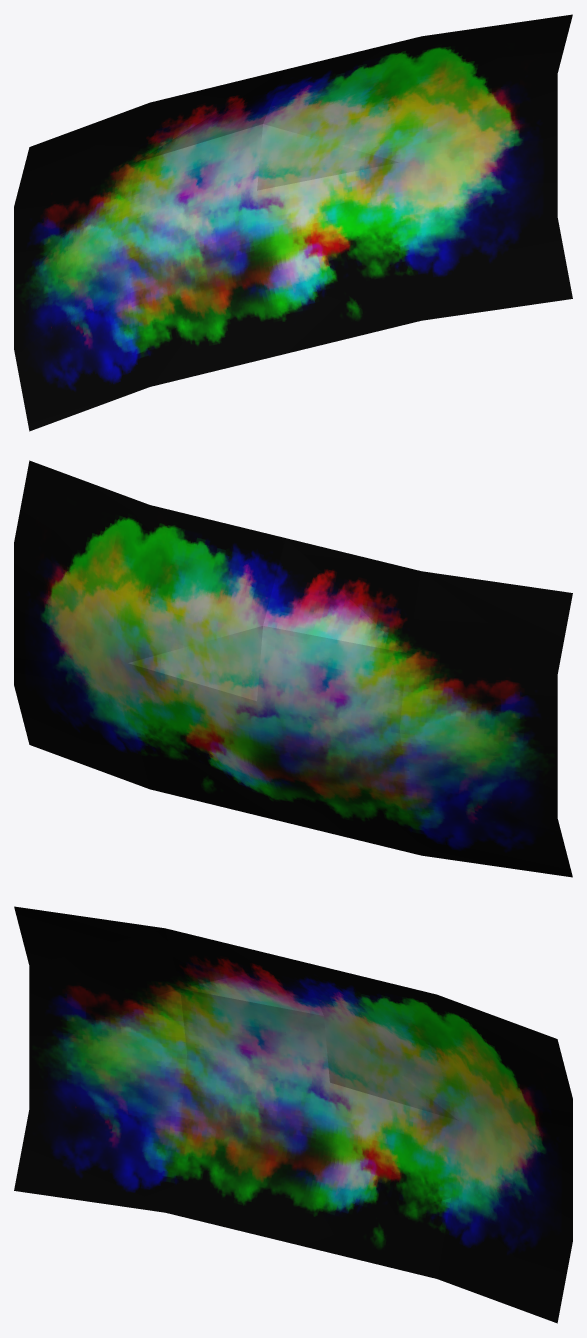
The model's file is clouds_A1.FBX.
3 views of the same model, one above another, from view 1: azimuth 30°, elevation 25°; view 2: azimuth 150°, elevation 25°; view 3: azimuth 330°, elevation 25° (orthographic).
Parts seen in each view (by area): view 1: clouds_A1; view 2: clouds_A1; view 3: clouds_A1.
Boxes of the visible parts, x1=… form: clouds_A1: x1=14, y1=14, x2=572, y2=431; clouds_A1: x1=14, y1=460, x2=572, y2=877; clouds_A1: x1=14, y1=906, x2=572, y2=1323.
Bounding box in the file's own units: 398 × 199 × 56.07.
